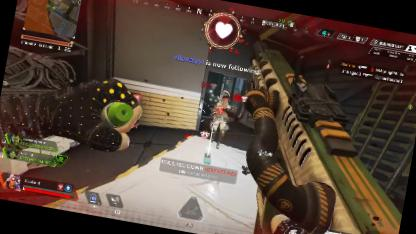Target: (208, 90, 232, 146)
